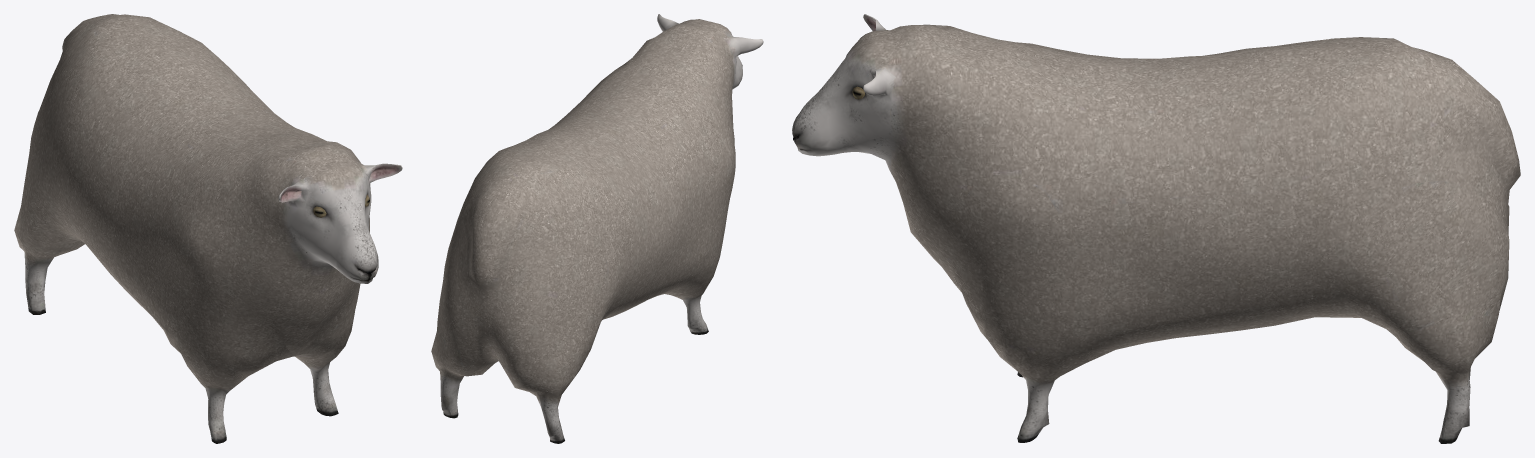
The model's file is creature_sheep_01_stand_3100.glb.
3 renders of one model, left to right at view 1: azimuth 30°, elevation 25°; view 2: azimuth 150°, elevation 25°; view 3: azimuth 270°, elevation 25°, orthographic. The views are drawn at different scales.
Visible parts, largest first — view 1: Sheep; view 2: Sheep; view 3: Sheep.
Boxes of the visible parts, bbox=[...] form: Sheep: bbox=[14, 14, 402, 443]; Sheep: bbox=[431, 14, 763, 443]; Sheep: bbox=[792, 14, 1520, 443].
Bounding box in the file's own units: 0.3336 × 0.5132 × 0.9.
Materials: 1 (1 with a texture image).
